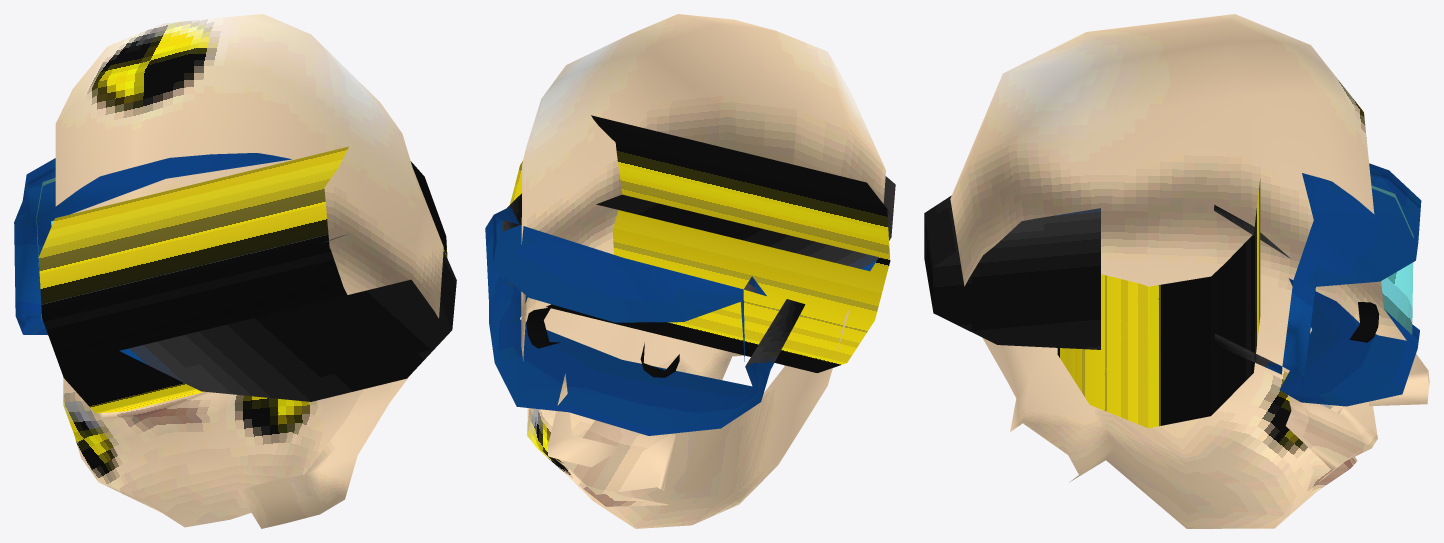
The model's file is ps2_save-icons_cidthedummy.glb.
3 views of the same model, side by side, from view 1: azimuth 30°, elevation 25°; view 2: azimuth 150°, elevation 25°; view 3: azimuth 270°, elevation 25° (orthographic). The views are drawn at different scales.
Parts seen in each view (by area): view 1: icon.ico; view 2: icon.ico; view 3: icon.ico.
Boxes of the visible parts, box(x1,y1,x2,y2) form: icon.ico: box(14, 14, 456, 528); icon.ico: box(485, 14, 895, 528); icon.ico: box(924, 14, 1429, 528).
Size of the model in its own units: 2.05 by 2.82 by 2.69.
Materials: 1 (1 with a texture image).
